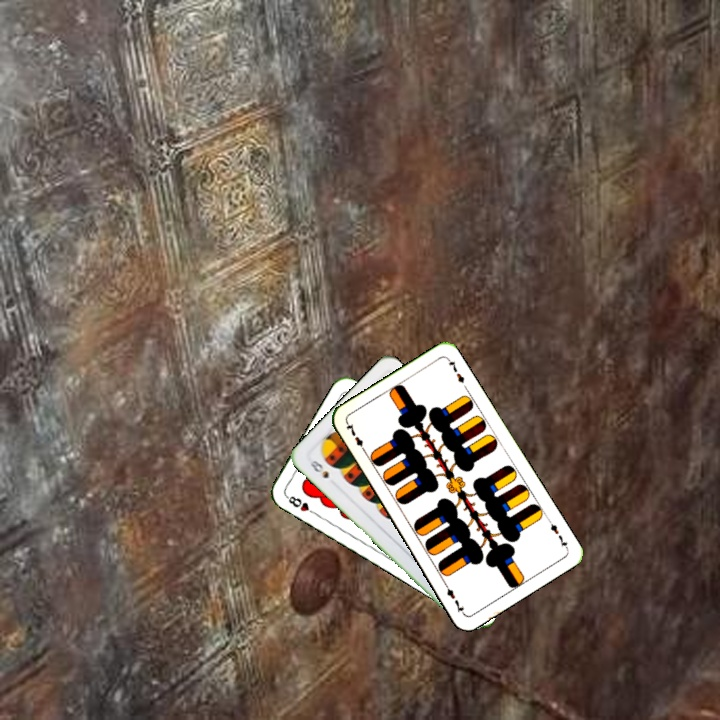E7: (342, 419, 369, 456), (544, 515, 571, 551)
H8: (282, 492, 319, 518)
S8: (304, 456, 331, 481)
